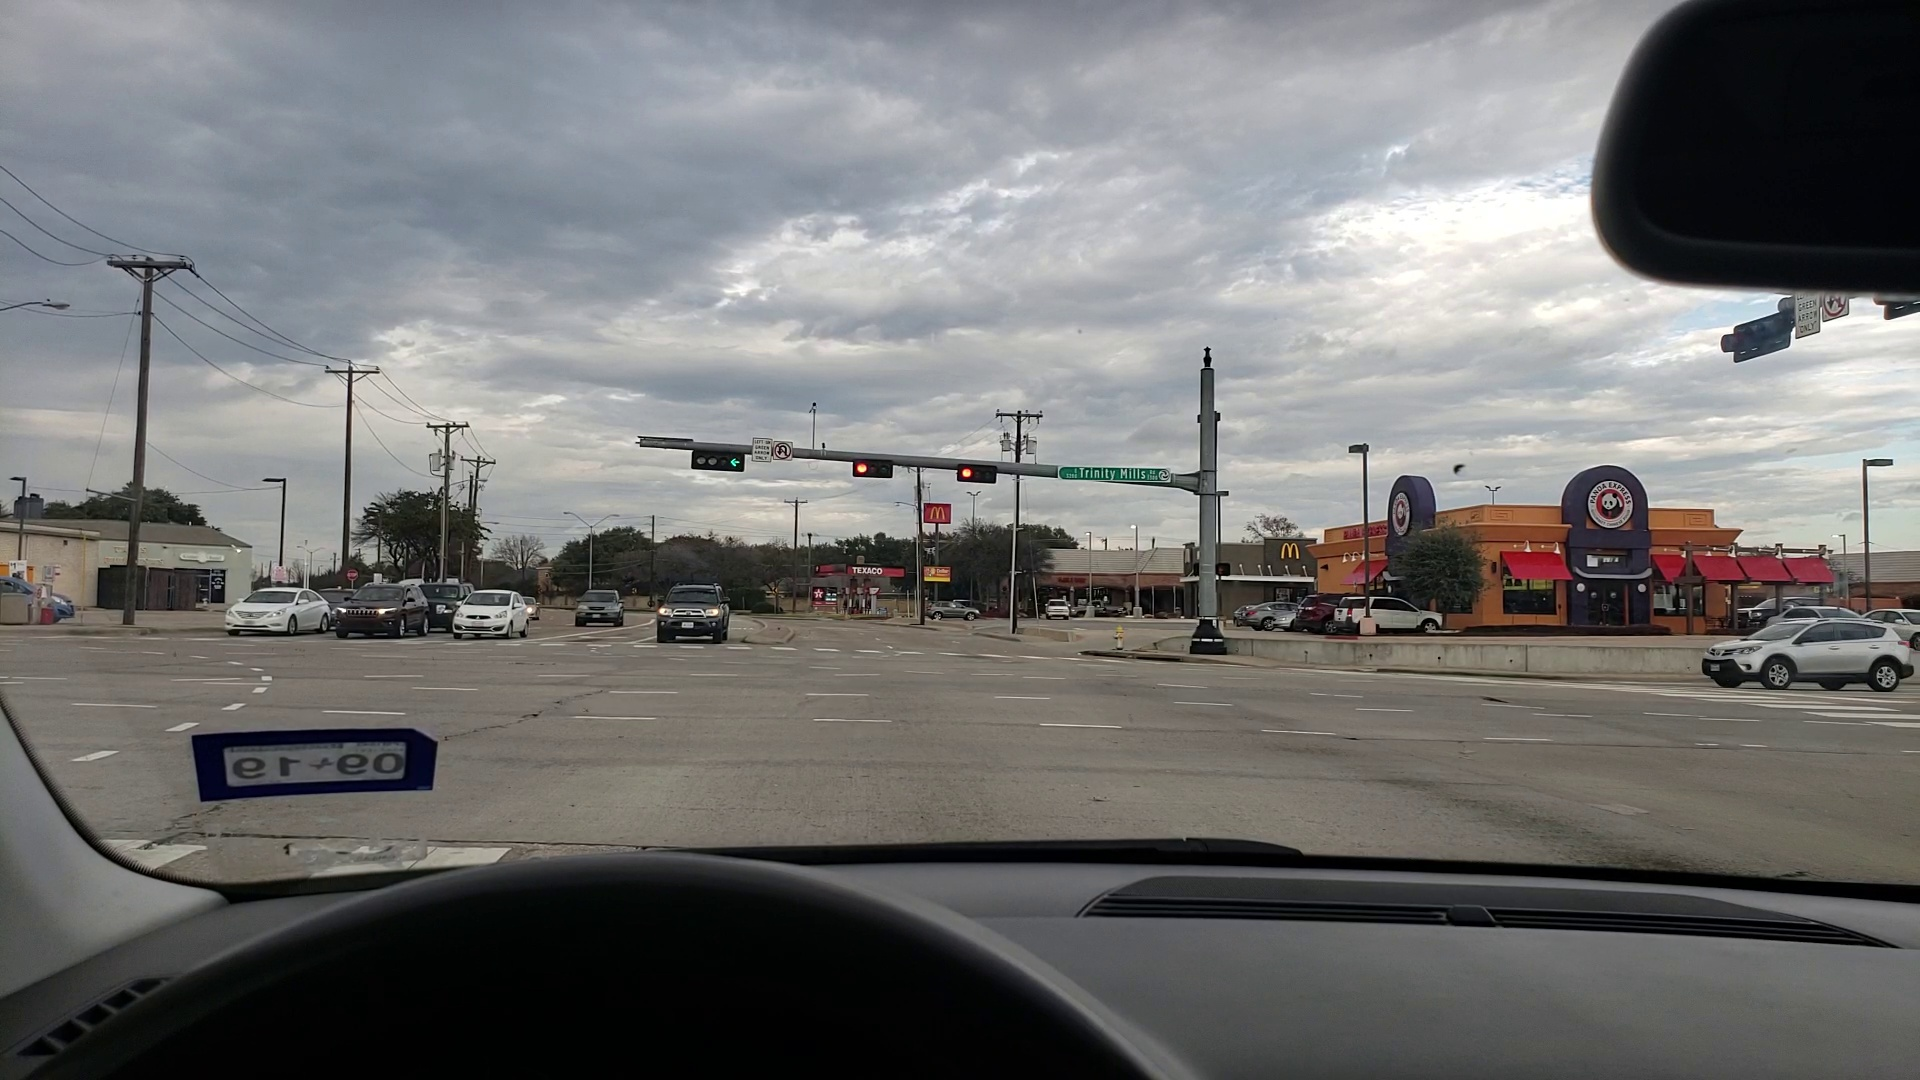car: (1704, 608, 1911, 688), (218, 582, 327, 634), (334, 585, 444, 636), (655, 580, 732, 638), (4, 563, 75, 625), (1342, 593, 1443, 636), (455, 589, 529, 638), (419, 575, 469, 624), (571, 589, 625, 624), (1242, 592, 1283, 628), (919, 601, 978, 624), (1300, 596, 1340, 628), (1043, 596, 1073, 621), (1274, 605, 1300, 628)
traffic light: (1720, 323, 1796, 355), (683, 450, 742, 473), (851, 452, 897, 473), (955, 462, 998, 480)
